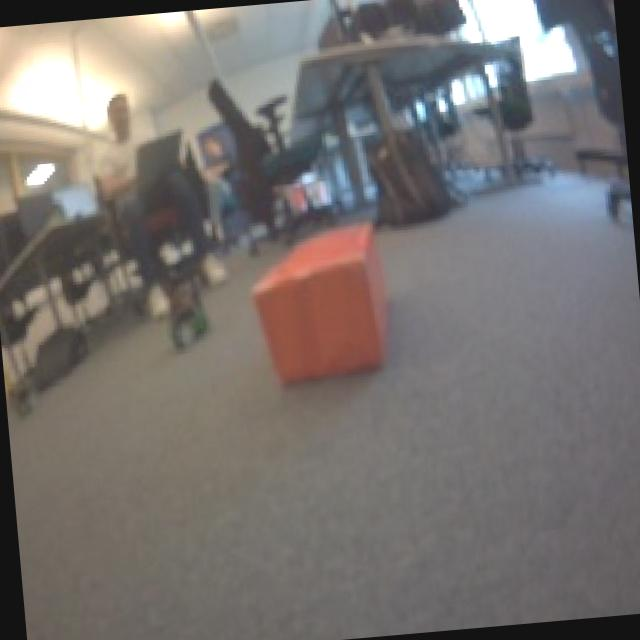robot: (162, 278, 216, 352)
target: (240, 217, 394, 386)
